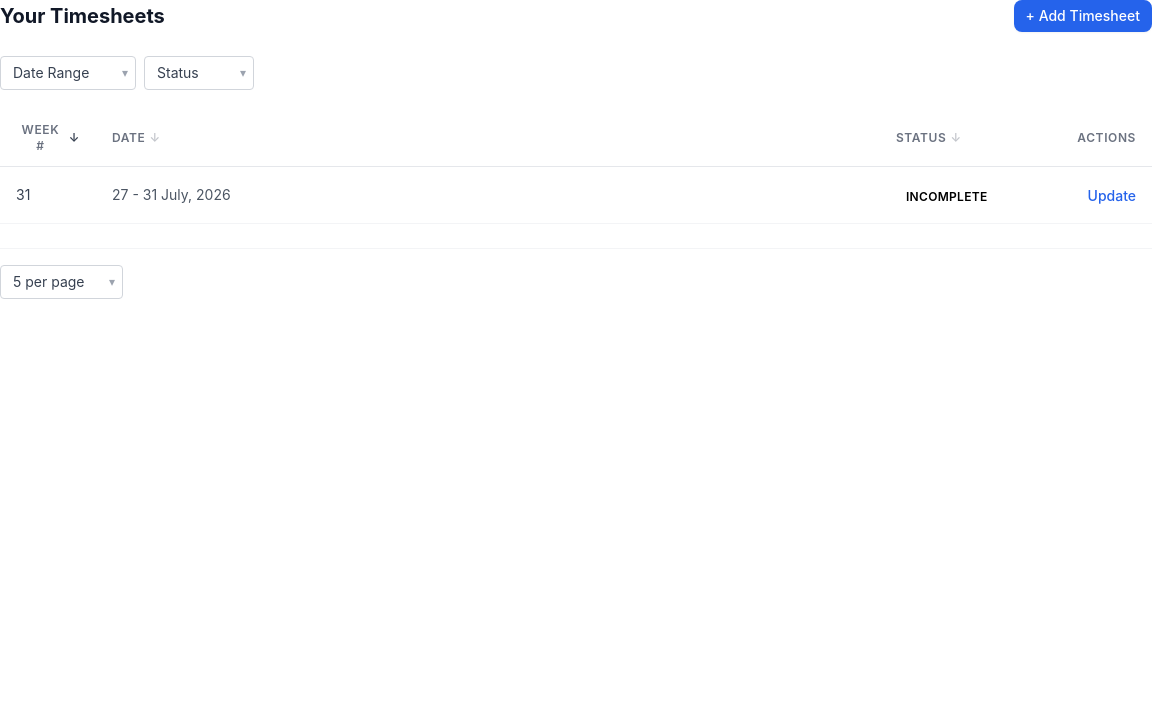
it: TimesheetContainer › opens edit modal when action link is clicked on a draft timesheet
This screenshot has width=1152, height=720.
Expected: the text "31" is shown, [0,166,96,224]
Click the button with aria-label "update week 31 timesheet" at {"x": 1112, "y": 196}, box [1088,186,1136,206]
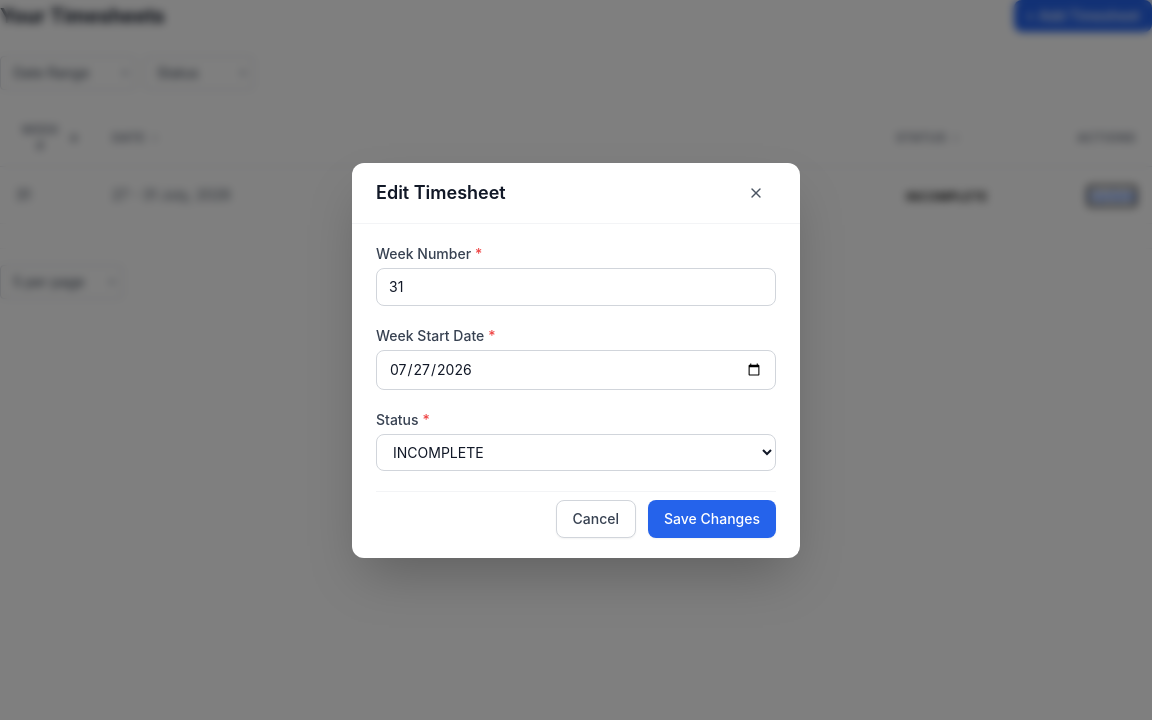
Result: the dialog is shown
Result: the heading "Edit Timesheet" is shown at [376,178,506,206]
